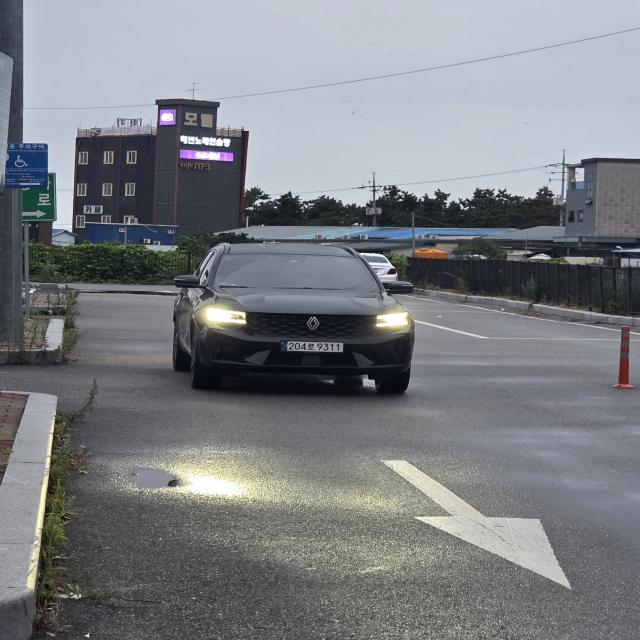car: (155, 217, 448, 402)
